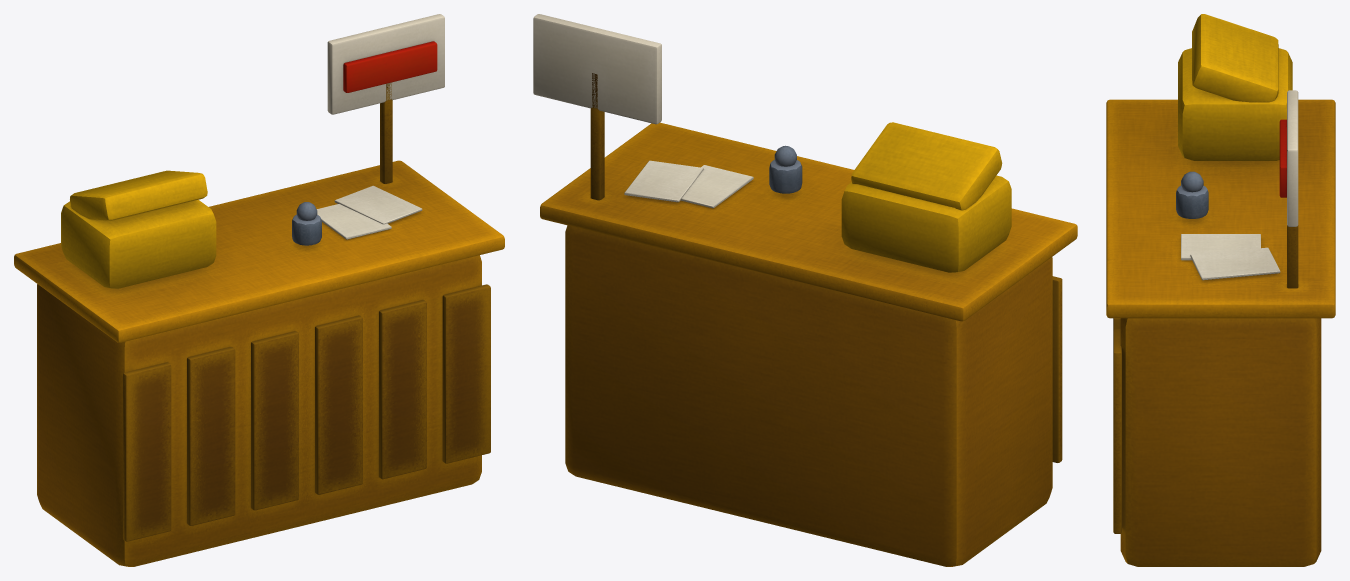
Rendered from TicketCounter.fbx.
The picture shows the model from 3 angles, left to right: view 1: azimuth 30°, elevation 25°; view 2: azimuth 150°, elevation 25°; view 3: azimuth 270°, elevation 25°; orthographic projection. The views are drawn at different scales.
Visible parts, largest first — view 1: TicketCounter; view 2: TicketCounter; view 3: TicketCounter.
Boxes of the visible parts, left/top/right/bottom form: TicketCounter: left=14, top=14, right=504, bottom=566; TicketCounter: left=533, top=14, right=1077, bottom=566; TicketCounter: left=1106, top=14, right=1335, bottom=566.
Size of the model in its own units: 1.8 by 1.7 by 0.8.
